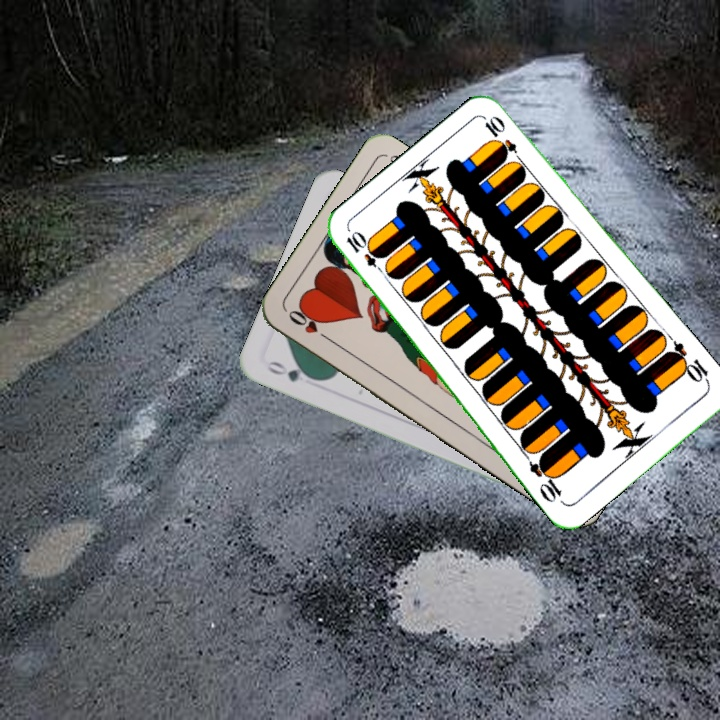E10: (663, 338, 712, 387), (342, 228, 390, 278)
GO: (263, 357, 320, 385)
HO: (284, 305, 336, 345)
